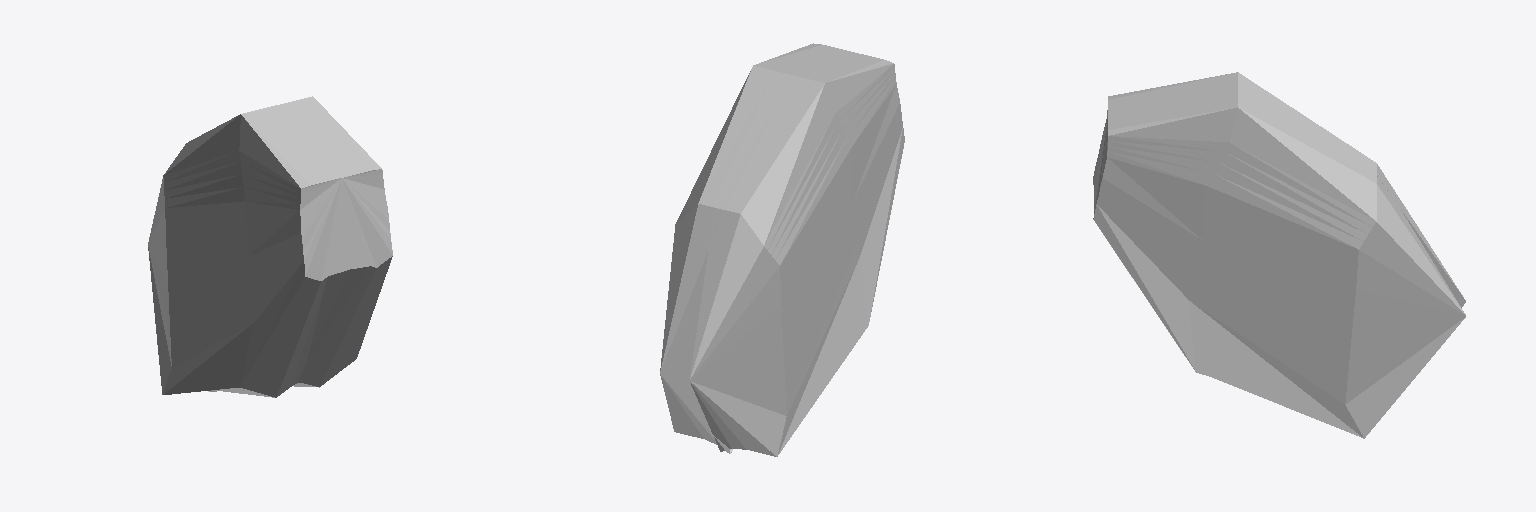
Rendered from spinosaurusUpperNeckOfficial.obj.
3 views of the same model, side by side, from view 1: azimuth 30°, elevation 25°; view 2: azimuth 150°, elevation 25°; view 3: azimuth 270°, elevation 25° (orthographic).
Visible parts, largest first — view 1: Spinosaurus.001_Cube.001; view 2: Spinosaurus.001_Cube.001; view 3: Spinosaurus.001_Cube.001.
Boxes of the visible parts, box(x1,y1,x2,y2) form: Spinosaurus.001_Cube.001: box(148, 96, 392, 397); Spinosaurus.001_Cube.001: box(660, 43, 904, 456); Spinosaurus.001_Cube.001: box(1093, 72, 1465, 438).
Bounding box in the file's own units: 0.4767 × 1.29 × 1.32.